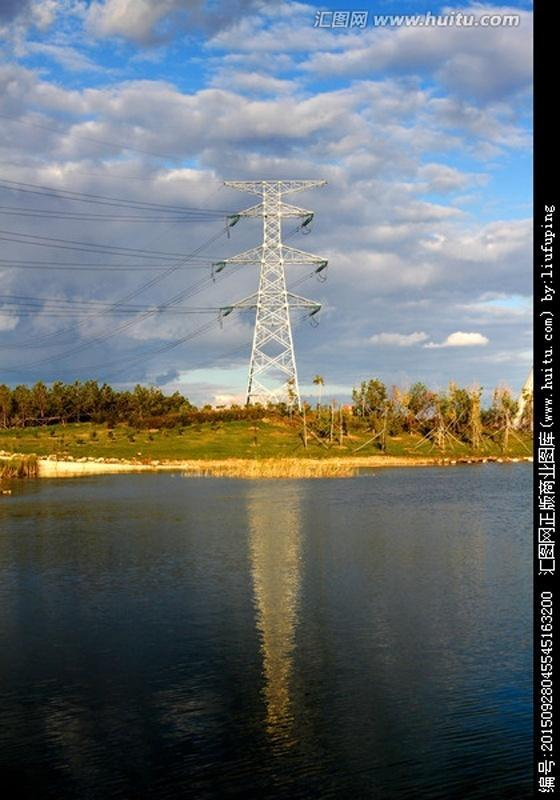power_tower: (210, 180, 330, 414)
